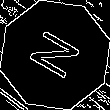N_SE: (23, 25, 87, 85)
